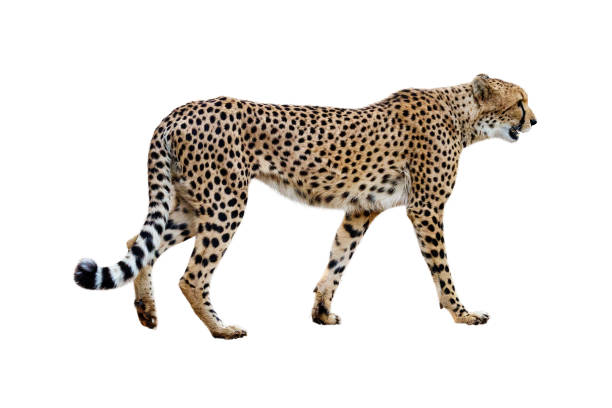cheetah: (468, 67, 545, 147)
